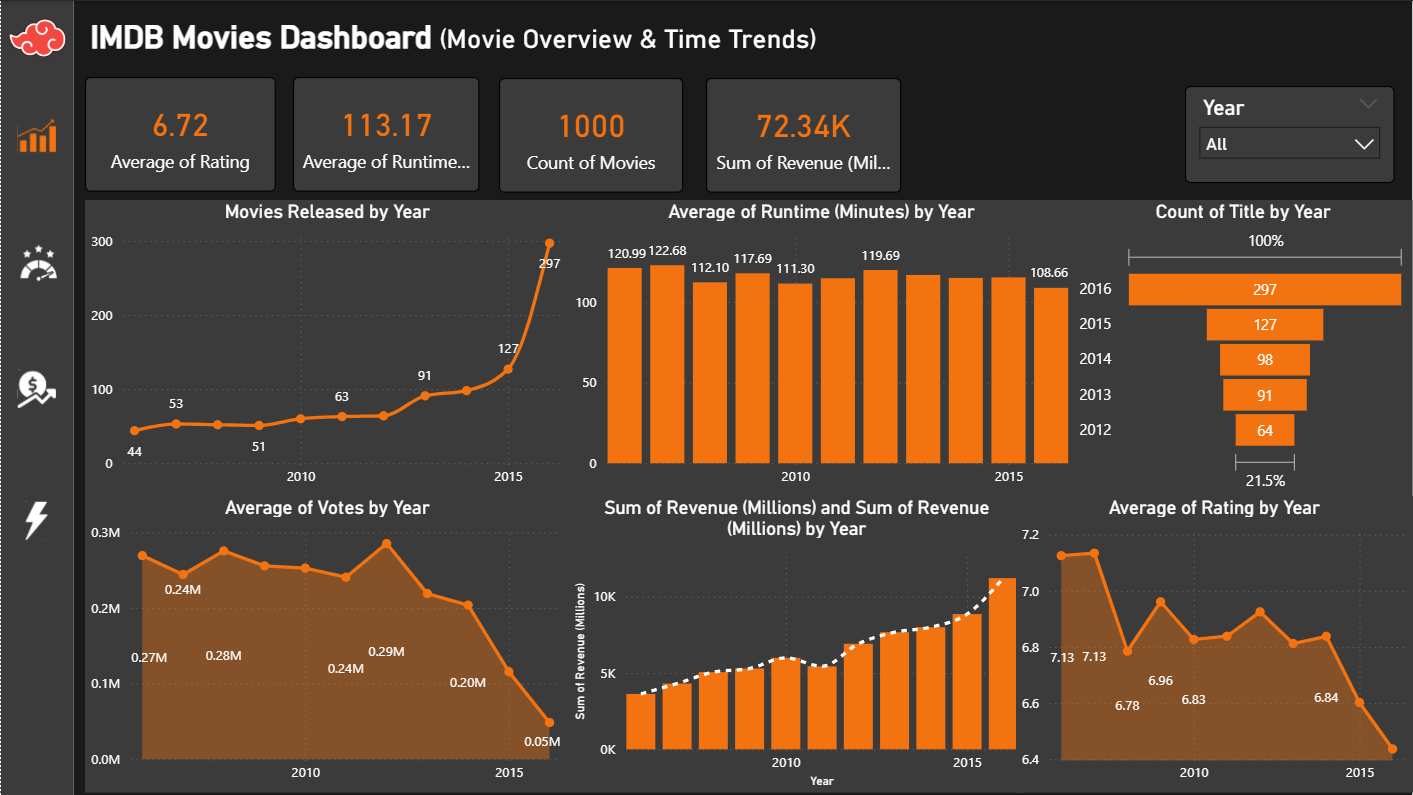

This screenshot's page, from the dashboard's own definition file:
{"tool":"powerbi","page":{"name":"Movie Overview","canvas":[1280,720],"ordinal":0},"visuals":[{"type":"shape","box":[0,0,66.3,720.2],"z":0},{"type":"actionButton","box":[11,99.4,42.9,44.2],"z":1000},{"type":"actionButton","box":[12.3,214.7,42.9,44.2],"z":2000},{"type":"actionButton","box":[11,328.8,42.9,44.2],"z":3000},{"type":"actionButton","box":[11,449.1,42.9,44.2],"z":4000},{"type":"image","box":[0,0,66.3,67.5],"z":5000},{"type":"shape","box":[66.3,0,1213.5,720.2],"z":6000},{"type":"lineChart","title":"Movies Released by Year","fields":{"Category":["IMDB-Movie-Data_Org.Year"],"Y":["CountNonNull(IMDB-Movie-Data_Org.Title)"]},"box":[76.1,180.4,439.3,268.7],"z":7000},{"type":"lineStackedColumnComboChart","fields":{"Category":["IMDB-Movie-Data_Org.Year"],"Y":["Sum(IMDB-Movie-Data_Org.Revenue (Millions))"],"Y2":["Sum(IMDB-Movie-Data_Org.Revenue (Millions))"]},"box":[515,449.1,413,268.7],"z":8000},{"type":"stackedAreaChart","fields":{"Category":["IMDB-Movie-Data_Org.Year"],"Y":["Avg(IMDB-Movie-Data_Org.Rating)"]},"box":[920.3,449.1,359.5,268.7],"z":9000},{"type":"columnChart","fields":{"Category":["IMDB-Movie-Data.Year"],"Y":["Avg(IMDB-Movie-Data.Runtime (Minutes))"]},"box":[515.3,180.4,457.7,268.7],"z":10000},{"type":"funnel","fields":{"Category":["IMDB-Movie-Data_Org.Year"],"Y":["CountNonNull(IMDB-Movie-Data_Org.Title)"]},"box":[973,180.4,306.8,268.7],"z":11000},{"type":"stackedAreaChart","fields":{"Y":["Avg(IMDB-Movie-Data_Org.Votes)"],"Category":["IMDB-Movie-Data_Org.Year"]},"box":[76.1,449.1,439.3,268.7],"z":12000},{"type":"card","fields":{"Values":["Avg(IMDB-Movie-Data_Org.Rating)"]},"box":[76.1,68.7,173,104.3],"z":13000},{"type":"card","fields":{"Values":["Avg(IMDB-Movie-Data_Org.Runtime (Minutes))"]},"box":[265,68.7,169.3,104.3],"z":14000},{"type":"card","fields":{"Values":["CountNonNull(IMDB-Movie-Data_Org.Title)"]},"box":[451.5,69.9,166.9,104.3],"z":15000},{"type":"card","fields":{"Values":["Sum(IMDB-Movie-Data_Org.Revenue (Millions))"]},"box":[639.4,69.7,176.6,104.5],"z":16000},{"type":"textbox","box":[76.1,11,754.6,44.2],"z":17000},{"type":"slicer","fields":{"Values":["IMDB-Movie-Data_Org.Year"]},"box":[1073.6,77.3,190.2,88.3],"z":18000}]}

Visuals, with their boxes on the page's 1280x720 design canvas (x1, y1, x2, y2). These are canvas units, not pixel positions in the 1413x795 screenshot, which may show the page scaled, cropped or inside an application window:
shape: left=0, top=0, right=66, bottom=720
actionButton: left=11, top=99, right=54, bottom=144
actionButton: left=12, top=215, right=55, bottom=259
actionButton: left=11, top=329, right=54, bottom=373
actionButton: left=11, top=449, right=54, bottom=493
image: left=0, top=0, right=66, bottom=68
shape: left=66, top=0, right=1280, bottom=720
"Movies Released by Year" lineChart: left=76, top=180, right=515, bottom=449
lineStackedColumnComboChart - IMDB-Movie-Data_Org.Year x Sum(IMDB-Movie-Data_Org.Revenue (Millions)): left=515, top=449, right=928, bottom=718
stackedAreaChart - IMDB-Movie-Data_Org.Year x Avg(IMDB-Movie-Data_Org.Rating): left=920, top=449, right=1280, bottom=718
columnChart - IMDB-Movie-Data.Year x Avg(IMDB-Movie-Data.Runtime (Minutes)): left=515, top=180, right=973, bottom=449
funnel - IMDB-Movie-Data_Org.Year x CountNonNull(IMDB-Movie-Data_Org.Title): left=973, top=180, right=1280, bottom=449
stackedAreaChart - Avg(IMDB-Movie-Data_Org.Votes) x IMDB-Movie-Data_Org.Year: left=76, top=449, right=515, bottom=718
card - Avg(IMDB-Movie-Data_Org.Rating): left=76, top=69, right=249, bottom=173
card - Avg(IMDB-Movie-Data_Org.Runtime (Minutes)): left=265, top=69, right=434, bottom=173
card - CountNonNull(IMDB-Movie-Data_Org.Title): left=452, top=70, right=618, bottom=174
card - Sum(IMDB-Movie-Data_Org.Revenue (Millions)): left=639, top=70, right=816, bottom=174
textbox: left=76, top=11, right=831, bottom=55
slicer - IMDB-Movie-Data_Org.Year: left=1074, top=77, right=1264, bottom=166
